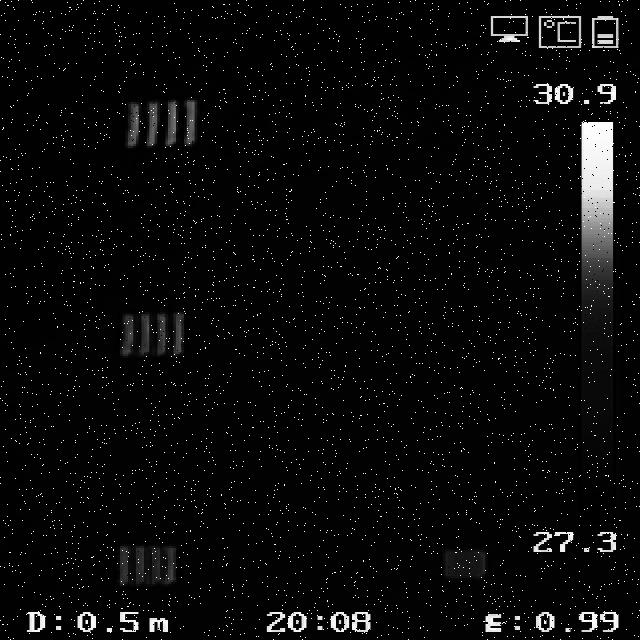Distinguishable 4-bar target: (125, 98, 200, 147), (121, 307, 191, 358), (121, 542, 183, 586)
threshold 4-bar target: (445, 546, 487, 579)
